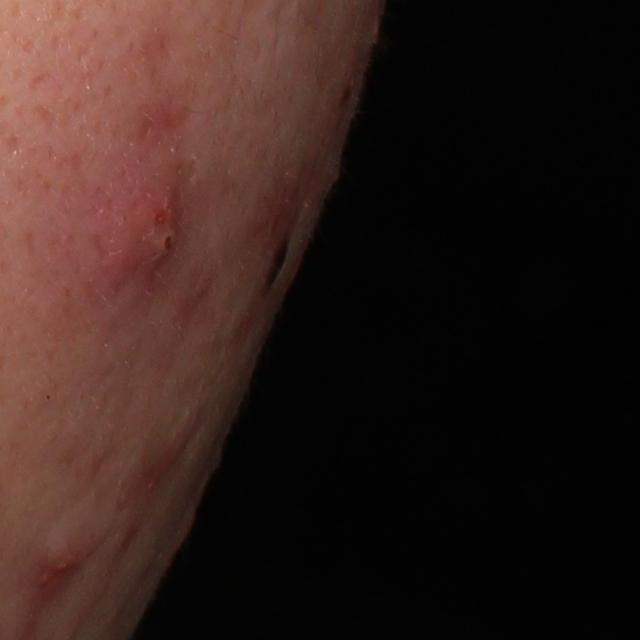nevus: (263, 232, 290, 298)
nodule: (95, 153, 187, 297)
